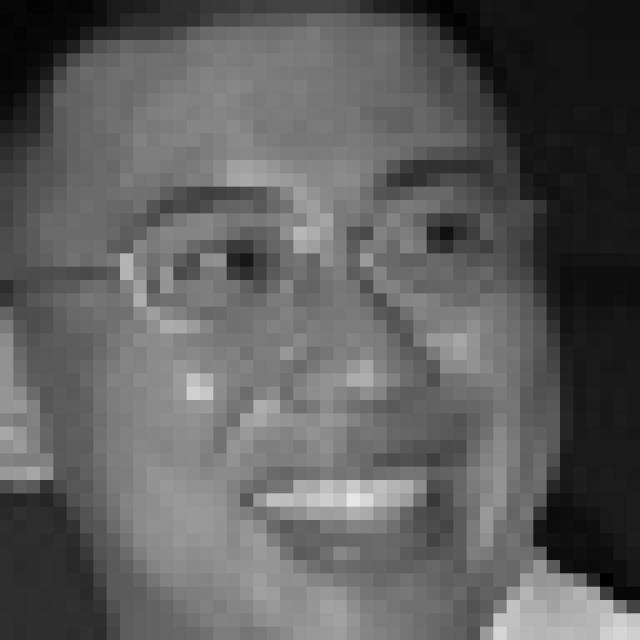happy: (112, 146, 519, 590)
